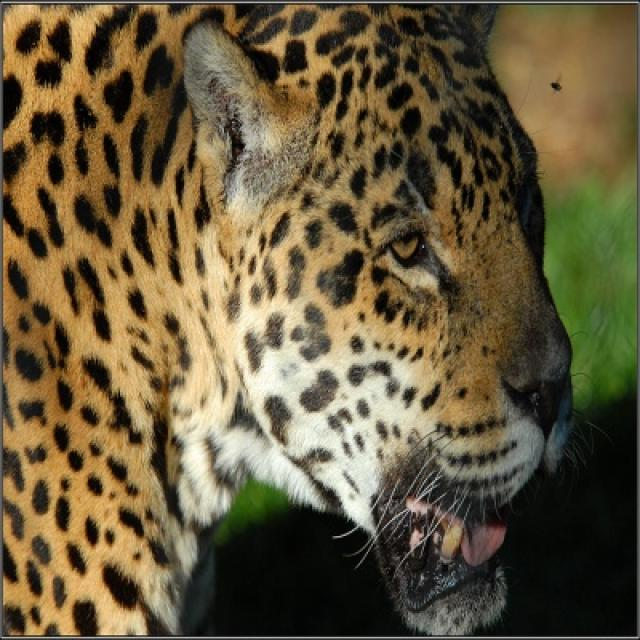Jaguar: (3, 4, 579, 636)
